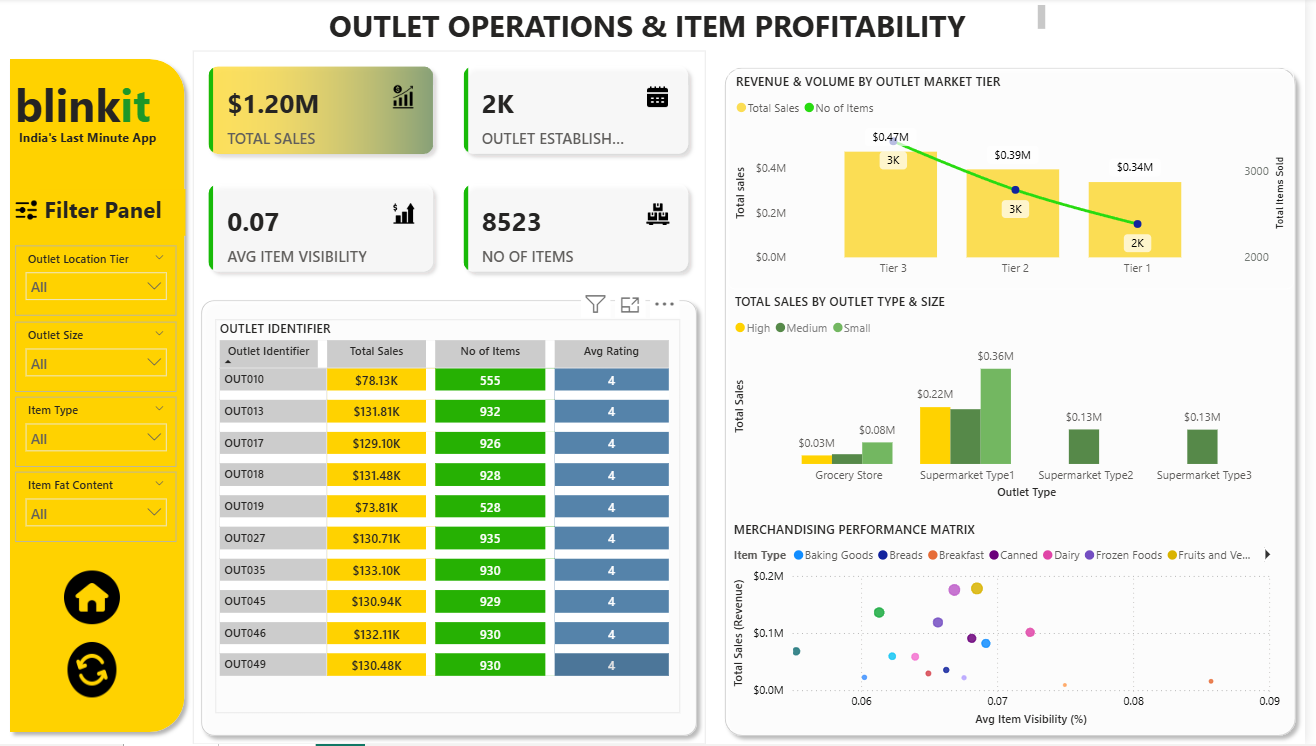

This screenshot's page, from the dashboard's own definition file:
{"tool":"powerbi","page":{"name":"Insights","canvas":[1400,800],"ordinal":1},"visuals":[{"type":"shape","box":[2.6,56.9,205.1,740],"z":0,"group":"g3"},{"type":"shape","box":[769.4,65.7,630,734.6],"z":0},{"type":"textbox","box":[12,77,175.6,75.1],"z":1000,"group":"g3"},{"type":"clusteredColumnChart","title":"TOTAL SALES BY OUTLET TYPE & SIZE","fields":{"Category":["BlinkIT Grocery Data.Outlet Type"],"Y":["BlinkIT Grocery Data.Total Sales"],"Series":["BlinkIT Grocery Data.Outlet Size"]},"box":[784.2,316.4,615.3,226.5],"z":1000},{"type":"textbox","box":[270.8,2.7,861.9,63],"z":2000},{"type":"textbox","box":[12,136,166.2,30.8],"z":2000,"group":"g3"},{"type":"group","id":"g1","title":"Group 1","box":[781.5,76.4,607.2,709.1],"z":3000},{"type":"shape","box":[207.8,315,549.6,485.3],"z":3000,"group":"g2"},{"type":"group","id":"g2","title":"Group 2","box":[207.8,56.3,549.6,744],"z":4000},{"type":"group","id":"g3","title":"Group 3","box":[2.6,56.9,205.1,740],"z":5000},{"type":"slicer","fields":{"Values":["BlinkIT Grocery Data.Outlet Location Type"]},"box":[17.3,266,172.9,75.1],"z":5000,"group":"g3"},{"type":"slicer","fields":{"Values":["BlinkIT Grocery Data.Outlet Size"]},"box":[17.3,347.8,172.9,75.1],"z":6000,"group":"g3"},{"type":"slicer","fields":{"Values":["BlinkIT Grocery Data.Item Type"]},"box":[17.3,428.2,172.9,75.1],"z":7000,"group":"g3"},{"type":"textbox","box":[42.8,205.7,156.8,49.6],"z":8000,"group":"g3"},{"type":"slicer","fields":{"Values":["BlinkIT Grocery Data.Item Fat Content"]},"box":[17.3,508.6,172.9,75.1],"z":9000,"group":"g3"},{"type":"actionButton","box":[69.6,614.5,60.3,57.6],"z":10000,"group":"g3"},{"type":"pivotTable","title":"OUTLET IDENTIFIER","fields":{"Values":["BlinkIT Grocery Data.Total Sales","BlinkIT Grocery Data.No of Items","BlinkIT Grocery Data.Avg Rating"],"Rows":["BlinkIT Grocery Data.Outlet Identifier"]},"box":[231.9,344.5,498.7,422.3],"z":11000,"group":"g2"},{"type":"lineClusteredColumnComboChart","title":"REVENUE & VOLUME BY OUTLET MARKET TIER","fields":{"Category":["BlinkIT Grocery Data.Outlet Location Type"],"Y":["BlinkIT Grocery Data.Total Sales"],"Y2":["BlinkIT Grocery Data.No of Items"]},"box":[781.5,76.4,607.2,235.9],"z":12000,"group":"g1"},{"type":"scatterChart","title":"MERCHANDISING PERFORMANCE MATRIX","fields":{"X":["Avg(BlinkIT Grocery Data.Item Visibility)"],"Y":["BlinkIT Grocery Data.Total Sales"],"Size":["BlinkIT Grocery Data.No of Items"],"Series":["BlinkIT Grocery Data.Item Type"]},"box":[782.8,560.3,596.5,225.2],"z":13000,"group":"g1"},{"type":"actionButton","box":[69.6,686.9,60.3,68.4],"z":15000,"group":"g3"},{"type":"cardVisual","fields":{"Data":["BlinkIT Grocery Data.Total Sales","Min(BlinkIT Grocery Data.Outlet Establish Year)","Avg(BlinkIT Grocery Data.Item Visibility)","BlinkIT Grocery Data.No of Items"]},"box":[207.8,56.3,549.6,254.7],"z":16000,"group":"g2"},{"type":"image","box":[12,200.3,34.9,55],"z":17000,"group":"g3"}]}

Visuals, with their boxes in screenshot pixels (x1, y1, x2, y2), scaled from the page's 1400x800 canvas onto the 1316x746 screenshot:
shape: box(2, 53, 195, 743)
shape: box(723, 61, 1315, 745)
textbox: box(11, 72, 176, 142)
"TOTAL SALES BY OUTLET TYPE & SIZE" clusteredColumnChart: box(737, 295, 1315, 506)
textbox: box(255, 3, 1065, 61)
textbox: box(11, 127, 168, 156)
"Group 1" group: box(735, 71, 1305, 732)
shape: box(195, 294, 712, 745)
"Group 2" group: box(195, 52, 712, 745)
"Group 3" group: box(2, 53, 195, 743)
slicer - BlinkIT Grocery Data.Outlet Location Type: box(16, 248, 179, 318)
slicer - BlinkIT Grocery Data.Outlet Size: box(16, 324, 179, 394)
slicer - BlinkIT Grocery Data.Item Type: box(16, 399, 179, 469)
textbox: box(40, 192, 188, 238)
slicer - BlinkIT Grocery Data.Item Fat Content: box(16, 474, 179, 544)
actionButton: box(65, 573, 122, 627)
"OUTLET IDENTIFIER" pivotTable: box(218, 321, 687, 715)
"REVENUE & VOLUME BY OUTLET MARKET TIER" lineClusteredColumnComboChart: box(735, 71, 1305, 291)
"MERCHANDISING PERFORMANCE MATRIX" scatterChart: box(736, 522, 1297, 732)
actionButton: box(65, 641, 122, 704)
cardVisual - BlinkIT Grocery Data.Total Sales x Min(BlinkIT Grocery Data.Outlet Establish Year): box(195, 52, 712, 290)
image: box(11, 187, 44, 238)
